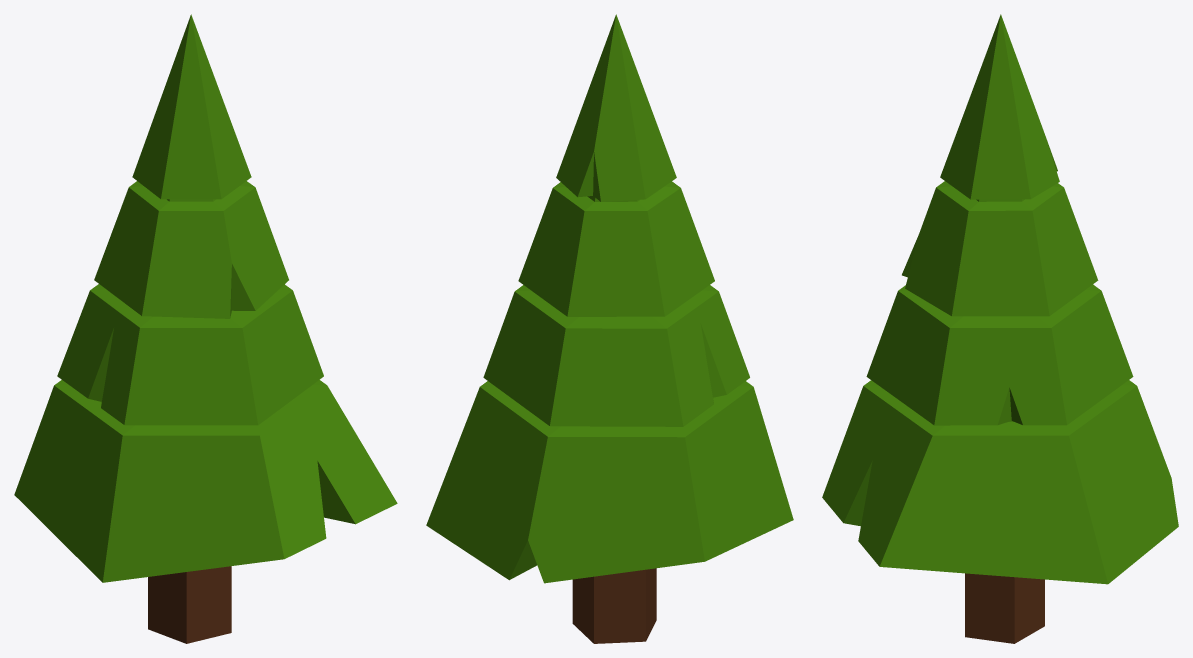
The model's file is Tree(lowPoly).fbx.
3 views of the same model, side by side, from view 1: azimuth 30°, elevation 25°; view 2: azimuth 150°, elevation 25°; view 3: azimuth 270°, elevation 25° (orthographic).
Visible parts, largest first — view 1: Цилиндр; view 2: Цилиндр; view 3: Цилиндр.
Boxes of the visible parts, x1=… form: Цилиндр: x1=14, y1=14, x2=397, y2=643; Цилиндр: x1=426, y1=14, x2=793, y2=643; Цилиндр: x1=822, y1=14, x2=1178, y2=643.
Bounding box in the file's own units: 728 × 1526 × 806.
